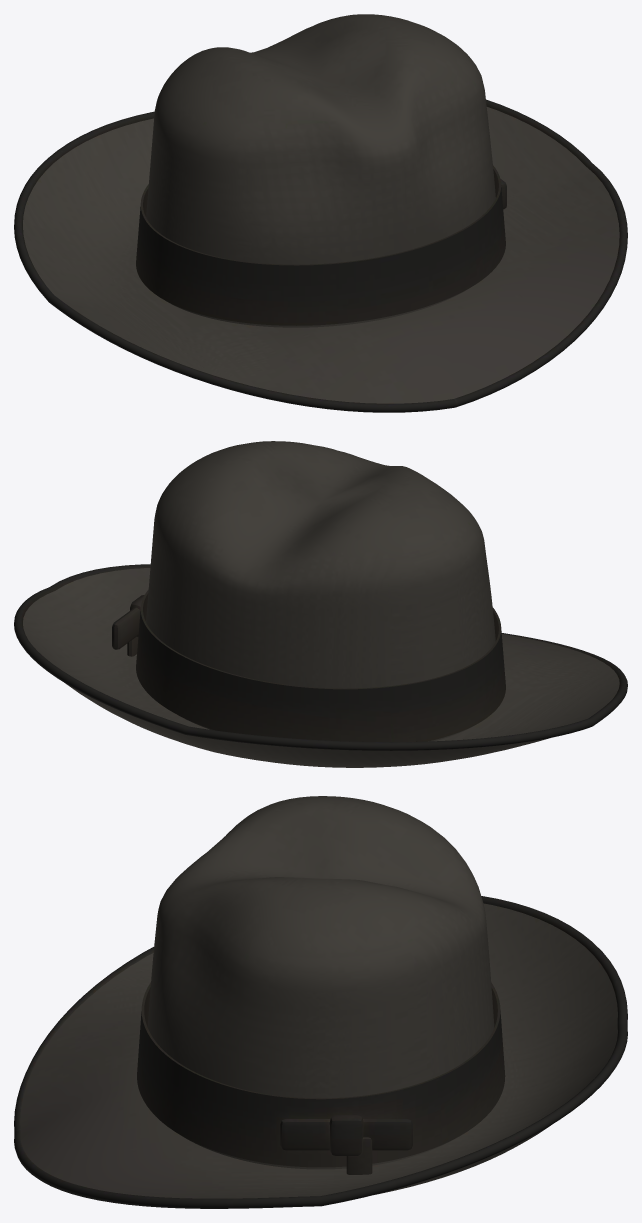
Rendered from fedora.glb.
The picture shows the model from 3 angles, top to bottom: view 1: azimuth 30°, elevation 25°; view 2: azimuth 150°, elevation 25°; view 3: azimuth 270°, elevation 25°; orthographic projection. The views are drawn at different scales.
Parts seen in each view (by area): view 1: fedora; view 2: fedora; view 3: fedora.
Part boxes in pixels (left/top/right/bottom): fedora: left=14, top=14, right=627, bottom=412; fedora: left=14, top=441, right=627, bottom=767; fedora: left=14, top=796, right=627, bottom=1208.
Size of the model in its own units: 0.3326 by 0.1516 by 0.2872.
Materials: 1 (1 with a texture image).
